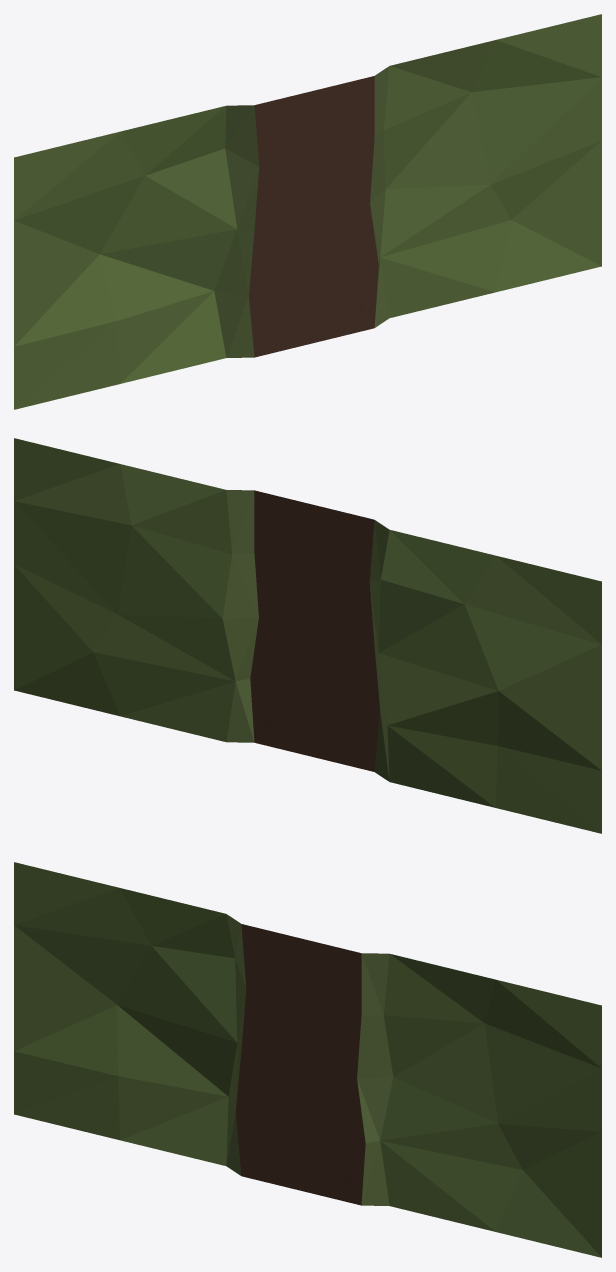
Rendered from ROAD.fbx.
The picture shows the model from 3 angles, top to bottom: view 1: azimuth 30°, elevation 25°; view 2: azimuth 150°, elevation 25°; view 3: azimuth 330°, elevation 25°; orthographic projection.
Visible parts, largest first — view 1: Cube; view 2: Cube; view 3: Cube.
Part boxes in pixels (left/top/right/bottom): Cube: left=14, top=14, right=601, bottom=409; Cube: left=14, top=438, right=601, bottom=833; Cube: left=14, top=862, right=601, bottom=1257.
Size of the model in its own units: 3232 by 1326 by 144.
Materials: 1 (1 with a texture image).
